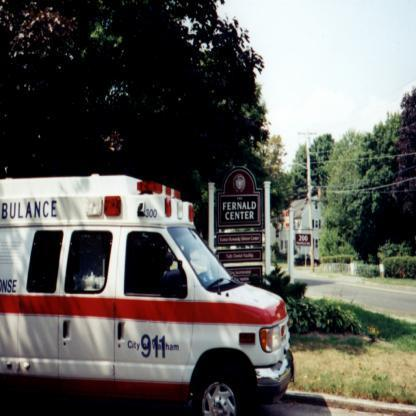Ambulance - v1 Ambulance last generate: (0, 169, 296, 415)
